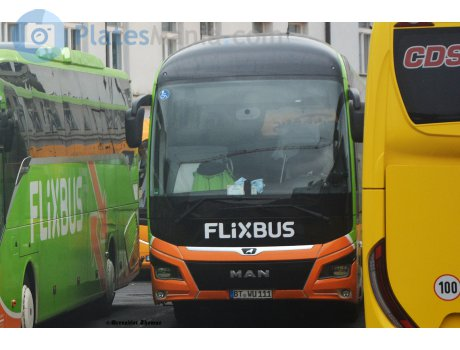License Plates: (235, 289, 274, 297)
